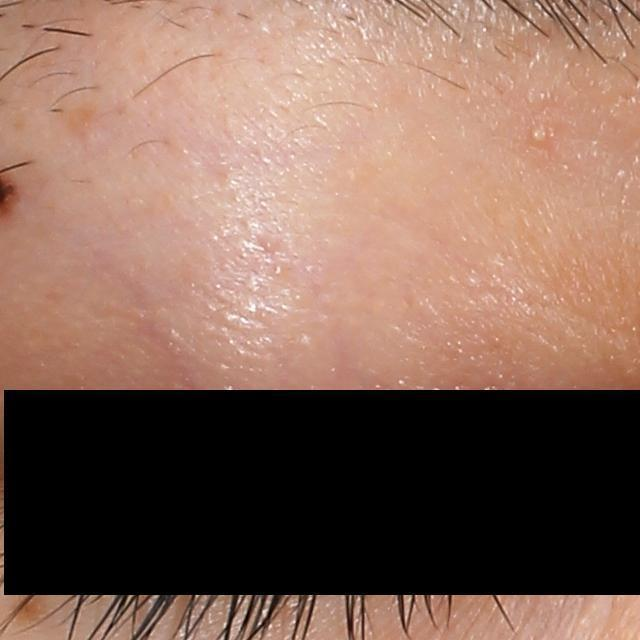melasma: (6, 588, 52, 624)
